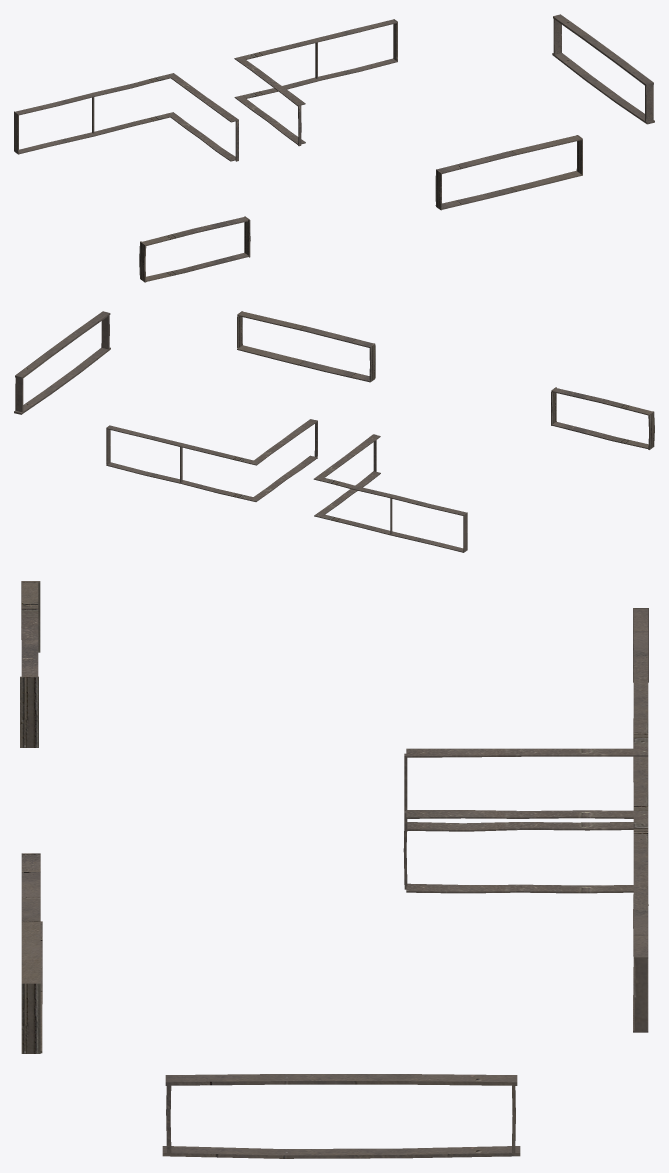
File: Corridor_00_08.fbx
The picture shows the model from 3 angles, top to bottom: view 1: azimuth 30°, elevation 25°; view 2: azimuth 150°, elevation 25°; view 3: azimuth 270°, elevation 25°; orthographic projection. The views are drawn at different scales.
Visible parts, largest first — view 1: Corridor_00_08; view 2: Corridor_00_08; view 3: Corridor_00_08.
Part boxes in pixels (bbox=[...]): Corridor_00_08: bbox=[14, 14, 654, 282]; Corridor_00_08: bbox=[14, 311, 654, 552]; Corridor_00_08: bbox=[20, 581, 648, 1158].
Bounding box in the file's own units: 3222 × 242 × 1699.
